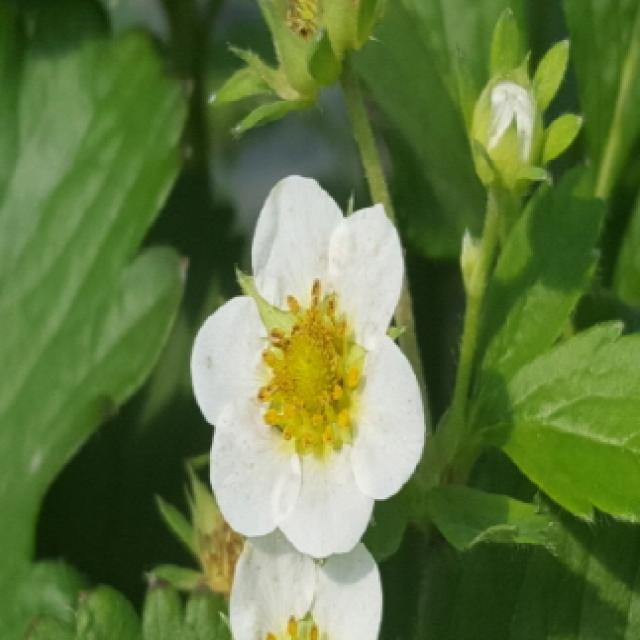Blossom Blight: (253, 273, 370, 467)
